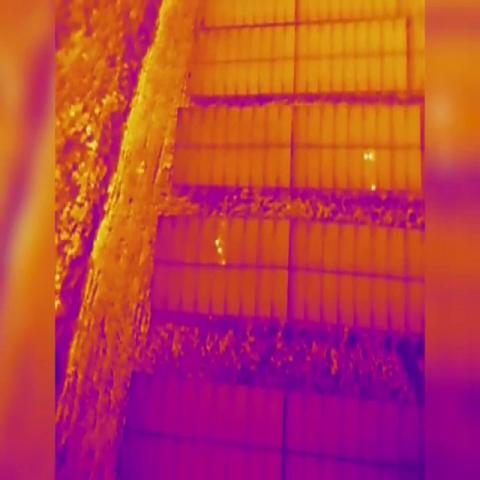fault: (213, 235, 221, 248), (368, 148, 374, 164), (370, 181, 377, 194), (362, 150, 369, 162), (217, 244, 223, 255), (221, 258, 226, 267)
